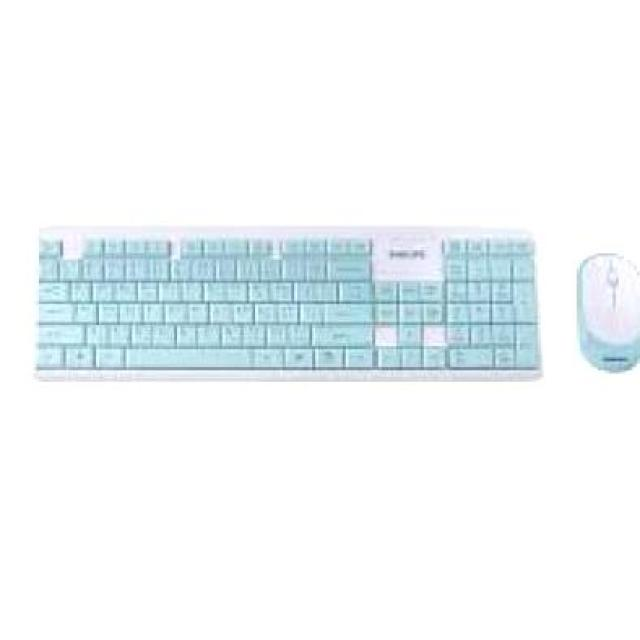keyboard: (23, 219, 546, 385)
